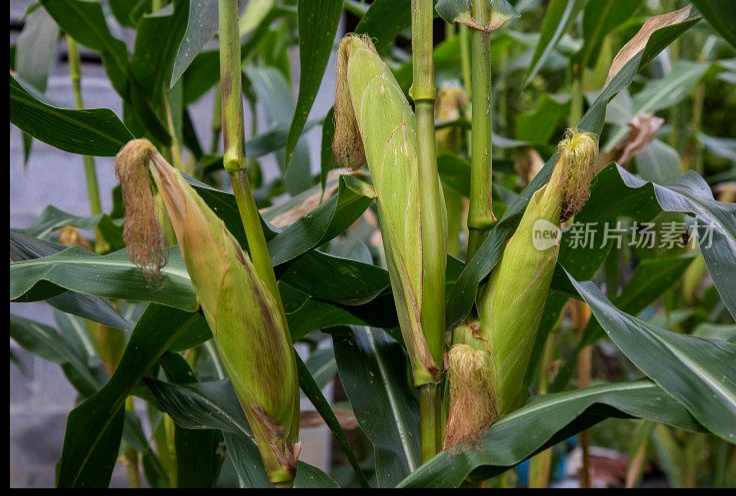corn_plant: (102, 133, 300, 473), (453, 122, 596, 446), (327, 37, 449, 384)
